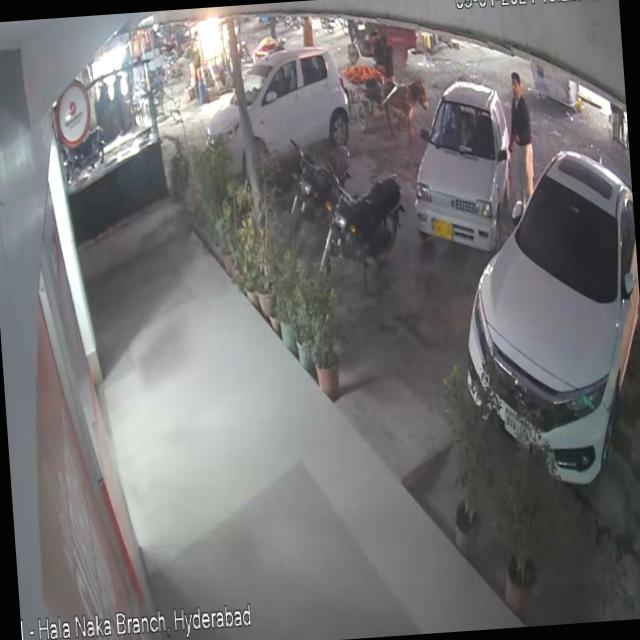Car: (446, 99, 640, 505), (407, 55, 522, 282), (178, 30, 356, 166)
Motorcycle: (302, 166, 413, 278), (286, 133, 361, 232)
